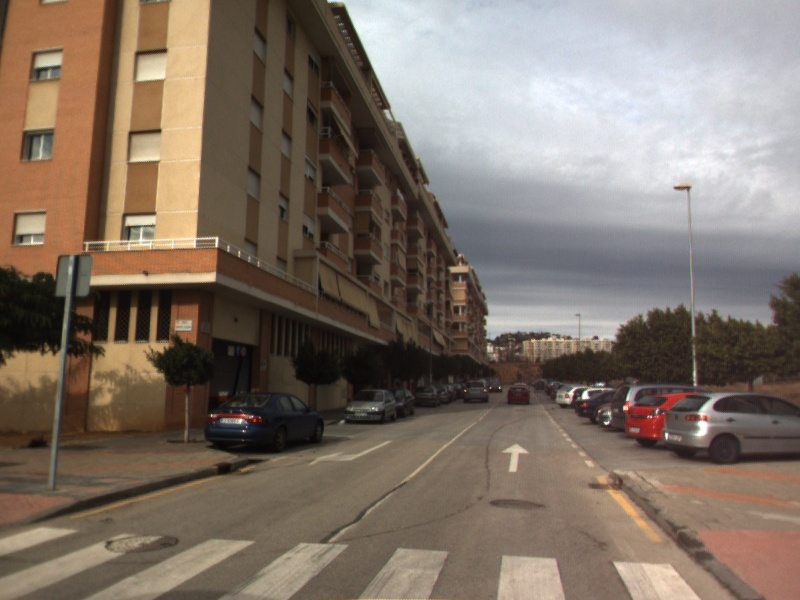STRAIGHT: (499, 441, 532, 474)
